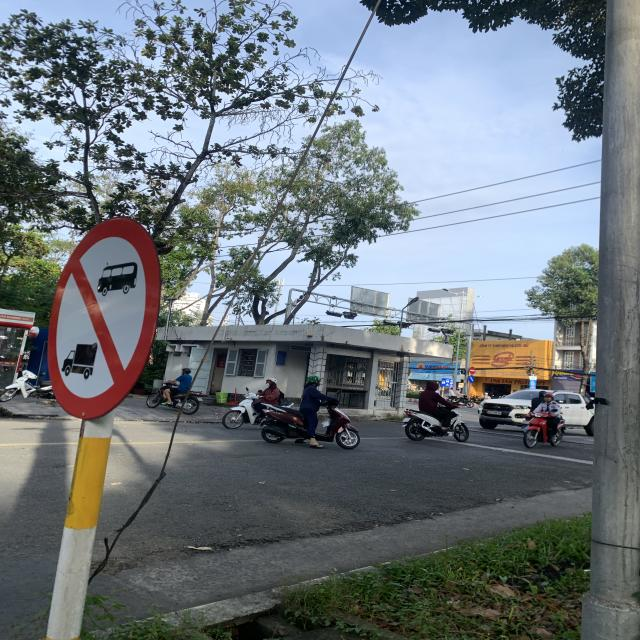Cam_XeTai_XeKhach: (46, 220, 164, 420)
